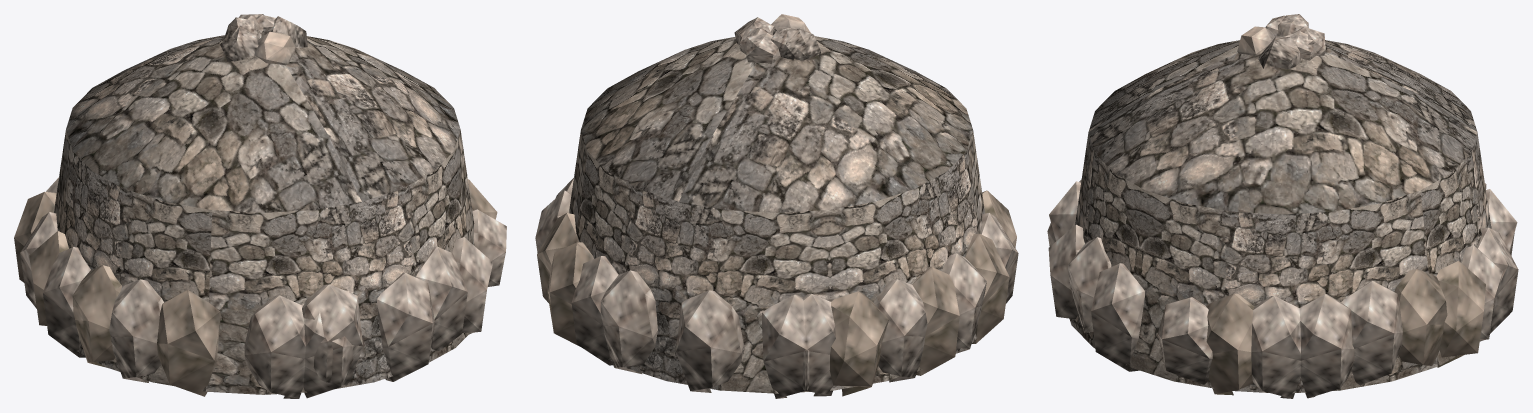
Rendered from ovoo_stone.dae.
3 views of the same model, side by side, from view 1: azimuth 30°, elevation 25°; view 2: azimuth 150°, elevation 25°; view 3: azimuth 270°, elevation 25° (orthographic).
Parts seen in each view (by area): view 1: stone_ovoo; view 2: stone_ovoo; view 3: stone_ovoo.
Boxes of the visible parts, x1,y1,x2,y2 form: stone_ovoo: [14, 14, 506, 398]; stone_ovoo: [535, 14, 1018, 398]; stone_ovoo: [1047, 14, 1518, 398].
Size of the model in its own units: 14.02 by 13.82 by 9.55.
